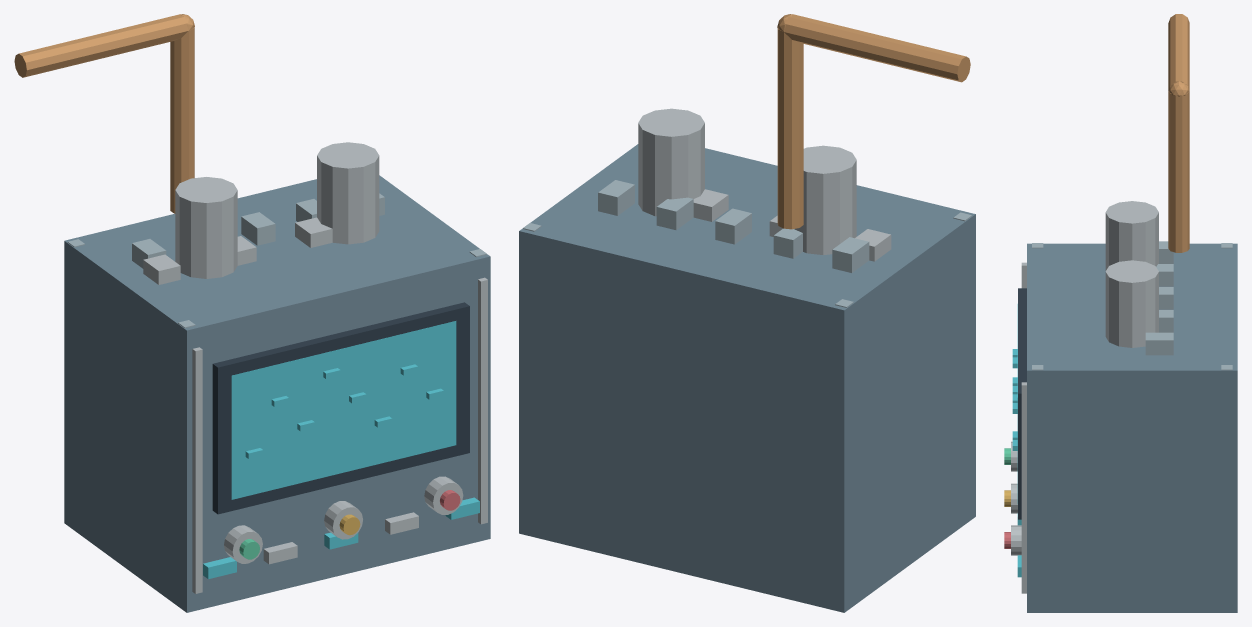
The model's file is 19_L72_MassFlowControllerA.glb.
The picture shows the model from 3 angles, left to right: view 1: azimuth 30°, elevation 25°; view 2: azimuth 150°, elevation 25°; view 3: azimuth 270°, elevation 25°; orthographic projection. The views are drawn at different scales.
Parts seen in each view (by area): view 1: MassFlowControllerA_Part_000, MassFlowControllerA_Part_008, MassFlowControllerA_Part_007, MassFlowControllerA_Part_036, MassFlowControllerA_Part_037, MassFlowControllerA_Part_039, MassFlowControllerA_Part_038, MassFlowControllerA_Part_005, MassFlowControllerA_Part_006, MassFlowControllerA_Part_028, MassFlowControllerA_Part_023, MassFlowControllerA_Part_025 (+3 smaller); view 2: MassFlowControllerA_Part_000, MassFlowControllerA_Part_037, MassFlowControllerA_Part_036, MassFlowControllerA_Part_038, MassFlowControllerA_Part_039, MassFlowControllerA_Part_026, MassFlowControllerA_Part_030, MassFlowControllerA_Part_028, MassFlowControllerA_Part_029, MassFlowControllerA_Part_025, MassFlowControllerA_Part_027, MassFlowControllerA_Part_023; view 3: MassFlowControllerA_Part_000, MassFlowControllerA_Part_037, MassFlowControllerA_Part_038, MassFlowControllerA_Part_036, MassFlowControllerA_Part_039, MassFlowControllerA_Part_007, MassFlowControllerA_Part_006, MassFlowControllerA_Part_030, MassFlowControllerA_Part_027, MassFlowControllerA_Part_028, MassFlowControllerA_Part_029, MassFlowControllerA_Part_021.
Boxes of the visible parts, x1,y1,x2,y2 form: MassFlowControllerA_Part_000: [64, 175, 490, 612]; MassFlowControllerA_Part_008: [231, 321, 456, 499]; MassFlowControllerA_Part_007: [212, 302, 469, 514]; MassFlowControllerA_Part_036: [175, 177, 237, 278]; MassFlowControllerA_Part_037: [317, 142, 379, 244]; MassFlowControllerA_Part_039: [14, 14, 188, 77]; MassFlowControllerA_Part_038: [170, 27, 194, 213]; MassFlowControllerA_Part_005: [192, 347, 202, 593]; MassFlowControllerA_Part_006: [478, 277, 487, 524]; MassFlowControllerA_Part_028: [241, 212, 275, 245]; MassFlowControllerA_Part_023: [143, 254, 180, 284]; MassFlowControllerA_Part_025: [295, 217, 332, 247]; MassFlowControllerA_Part_000: [519, 144, 975, 612]; MassFlowControllerA_Part_037: [638, 108, 704, 216]; MassFlowControllerA_Part_036: [794, 145, 856, 255]; MassFlowControllerA_Part_038: [777, 28, 803, 229]; MassFlowControllerA_Part_039: [784, 14, 970, 82]; MassFlowControllerA_Part_026: [832, 237, 869, 272]; MassFlowControllerA_Part_030: [598, 180, 634, 215]; MassFlowControllerA_Part_028: [715, 208, 751, 244]; MassFlowControllerA_Part_029: [656, 197, 693, 229]; MassFlowControllerA_Part_025: [693, 189, 728, 221]; MassFlowControllerA_Part_027: [773, 228, 802, 258]; MassFlowControllerA_Part_023: [855, 229, 891, 261]; MassFlowControllerA_Part_000: [1027, 243, 1237, 612]; MassFlowControllerA_Part_037: [1105, 260, 1158, 347]; MassFlowControllerA_Part_038: [1168, 91, 1189, 252]; MassFlowControllerA_Part_036: [1105, 201, 1158, 270]; MassFlowControllerA_Part_039: [1168, 14, 1189, 90]; MassFlowControllerA_Part_007: [1018, 288, 1026, 519]; MassFlowControllerA_Part_006: [1021, 382, 1026, 593]; MassFlowControllerA_Part_030: [1145, 332, 1173, 355]; MassFlowControllerA_Part_027: [1156, 264, 1173, 286]; MassFlowControllerA_Part_028: [1159, 287, 1173, 309]; MassFlowControllerA_Part_029: [1159, 310, 1173, 332]; MassFlowControllerA_Part_021: [1011, 525, 1021, 555].
Size of the model in its own units: 1.13 by 1.45 by 0.6977.
